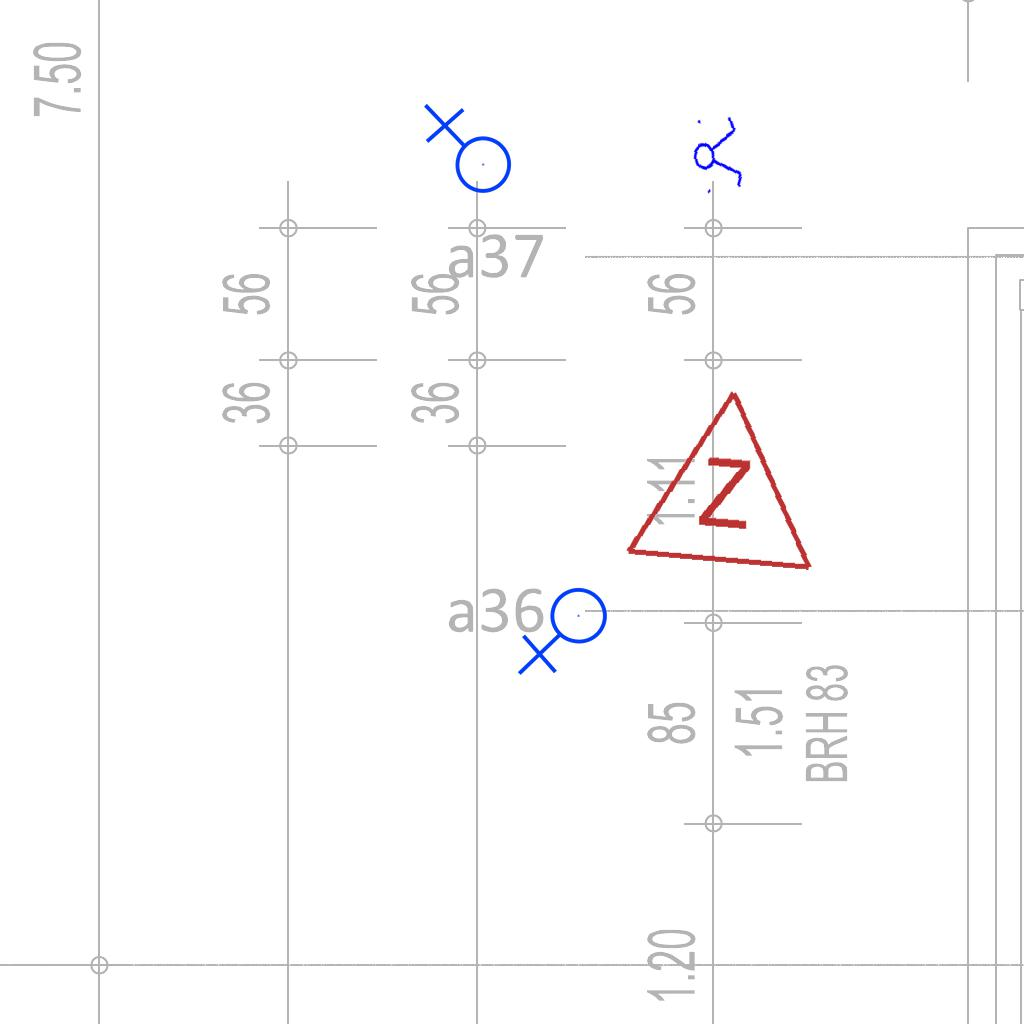Elektroanschluss_allgemein_230V_Geraeteanschlussdose_230V: (517, 586, 616, 680), (419, 103, 513, 202)
Serienschalter: (687, 109, 747, 199)
Zimmersignalleuchte: (617, 368, 831, 586)
